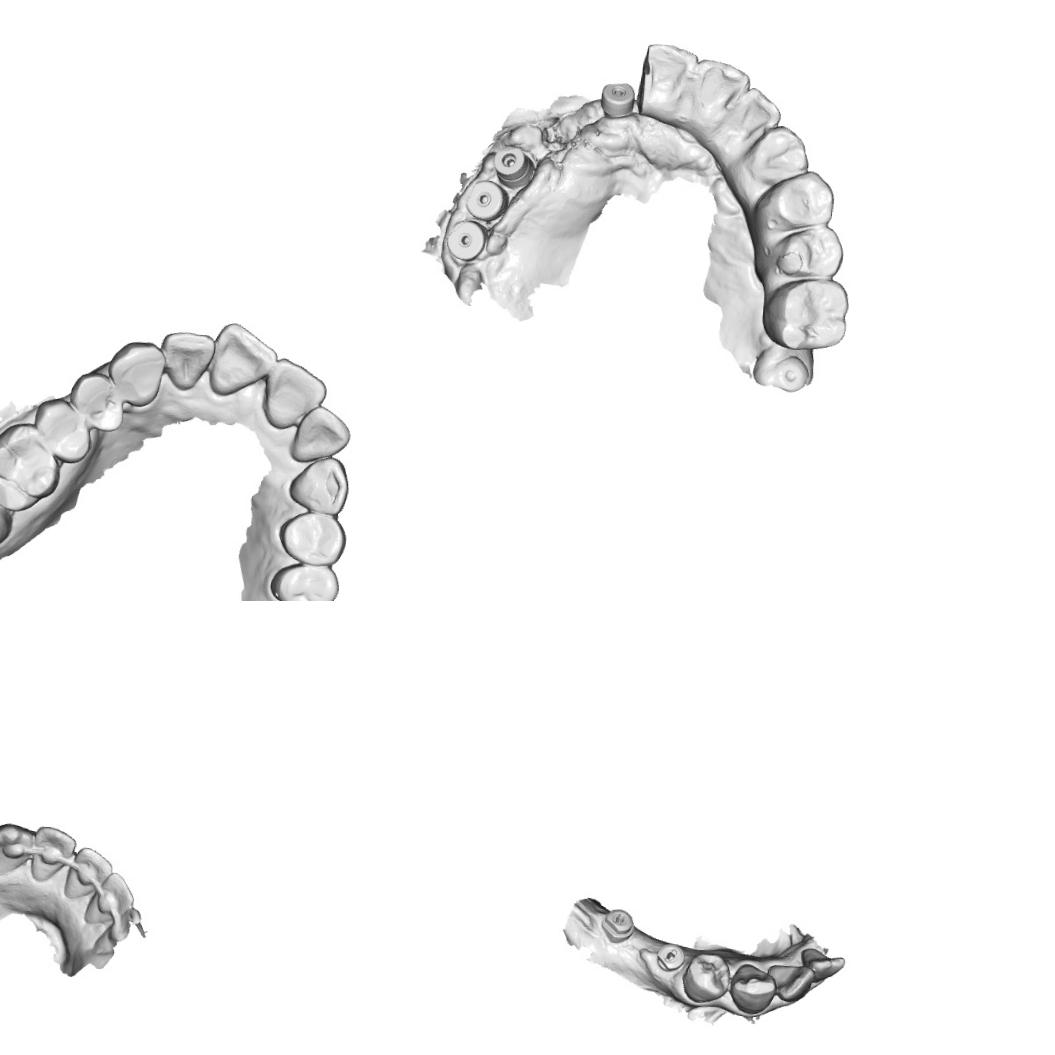canine: (734, 119, 814, 190), (103, 337, 166, 410), (284, 452, 350, 518), (726, 961, 778, 1016), (0, 820, 33, 878)
implant: (461, 176, 510, 224), (489, 143, 537, 189), (594, 78, 643, 122), (766, 352, 816, 395), (442, 218, 488, 264)
implant_minus: (598, 906, 636, 944), (654, 942, 685, 972)
incisor: (707, 82, 786, 162), (205, 320, 281, 401), (686, 56, 754, 141), (262, 354, 330, 434), (156, 324, 218, 398), (287, 400, 350, 466), (638, 40, 700, 107), (82, 868, 136, 926), (62, 844, 114, 902), (30, 824, 77, 884), (763, 962, 816, 1004), (796, 946, 846, 983)
molar: (758, 274, 854, 355), (0, 416, 63, 514)
premolar: (750, 164, 838, 238), (764, 218, 846, 282), (29, 393, 93, 464), (276, 506, 348, 566), (65, 367, 128, 435), (267, 558, 342, 601), (680, 950, 732, 1004)
